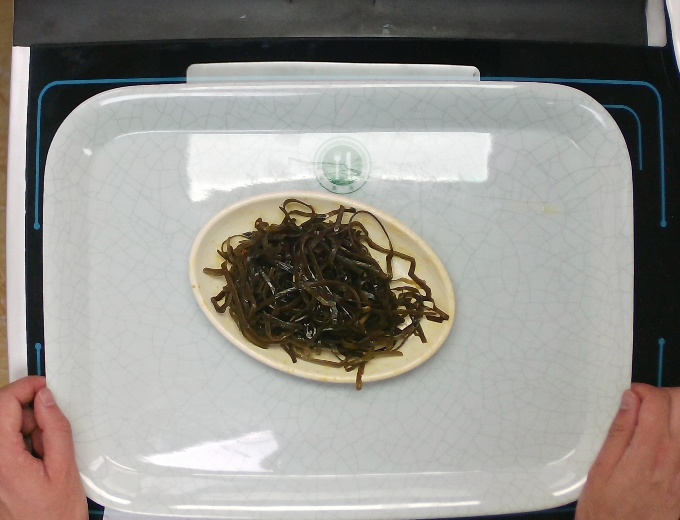JYsf-Tuo_Yuan_Wan: (188, 186, 457, 393)
